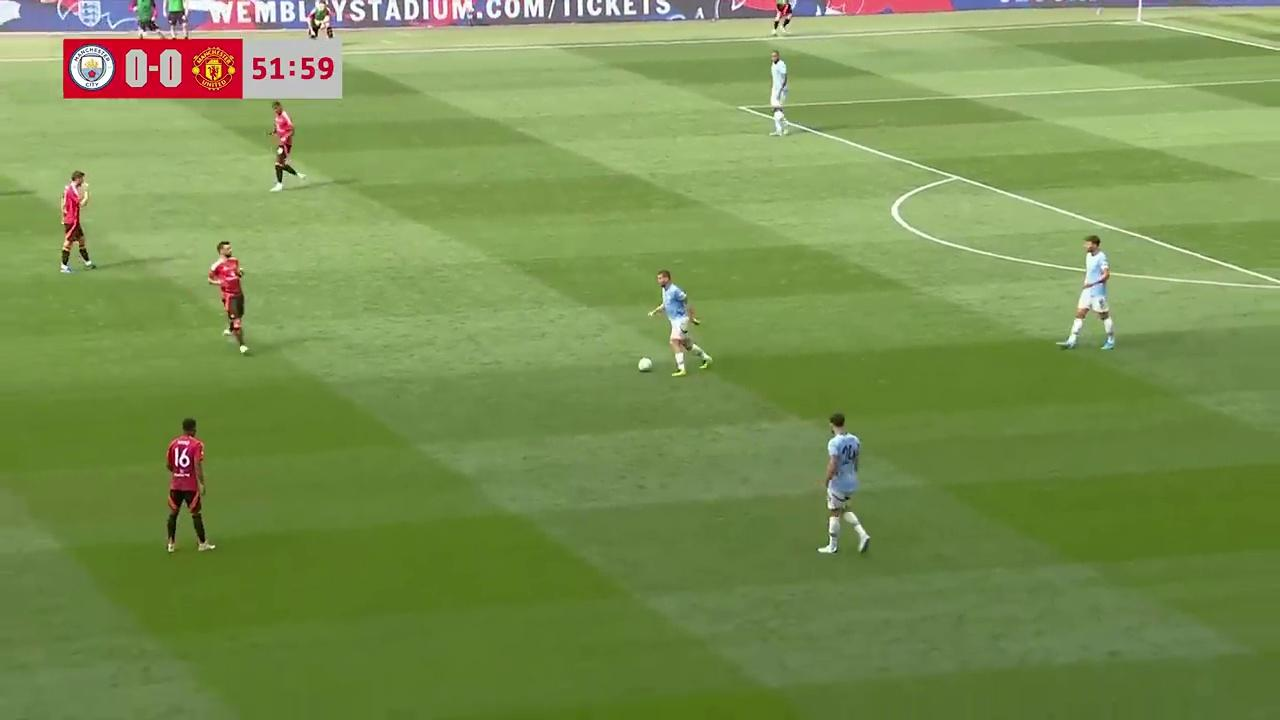ball: (635, 354, 652, 375)
player: (820, 412, 871, 557), (165, 417, 215, 556), (648, 269, 711, 377), (1059, 236, 1115, 351), (208, 241, 248, 353), (58, 169, 96, 274), (267, 102, 304, 191), (768, 49, 790, 136)
